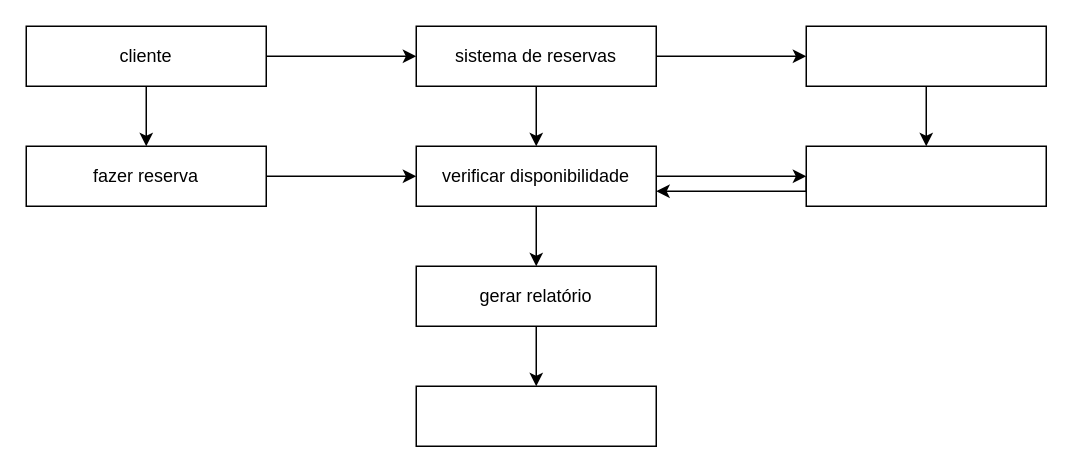
Some shapes in this 1073 by 473 pixel diagram are drawn without their labels. Each missing label, with the centre of its shape:
atualizar reservas: the point at 925,175
campo: the point at 925,55
gerar pdf: the point at 535,415
